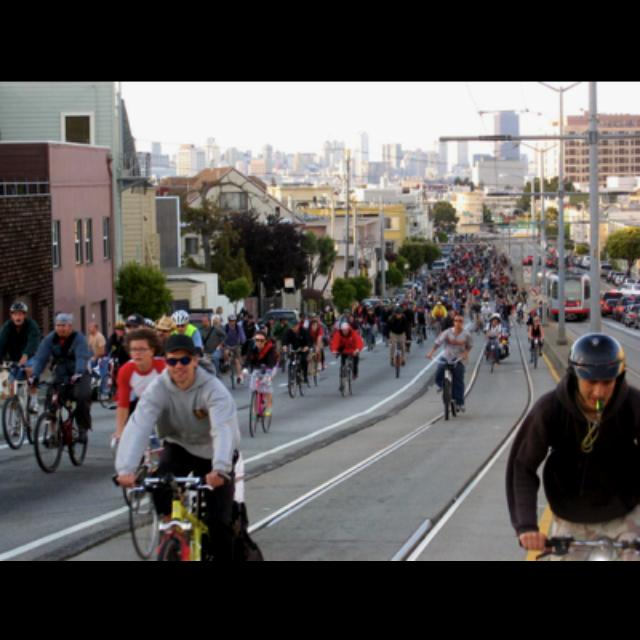Without Helmet: (162, 331, 198, 382), (452, 311, 464, 327)
